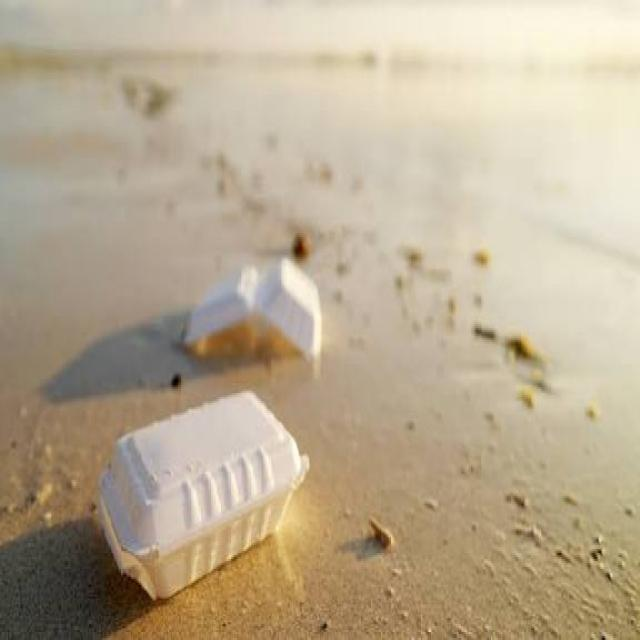styrofoam: (81, 413, 330, 591), (180, 225, 358, 387)
